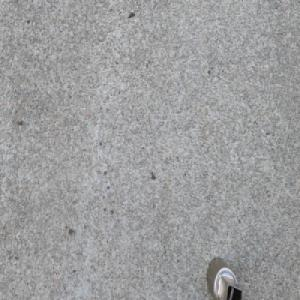MetalPart: (204, 252, 242, 300)
